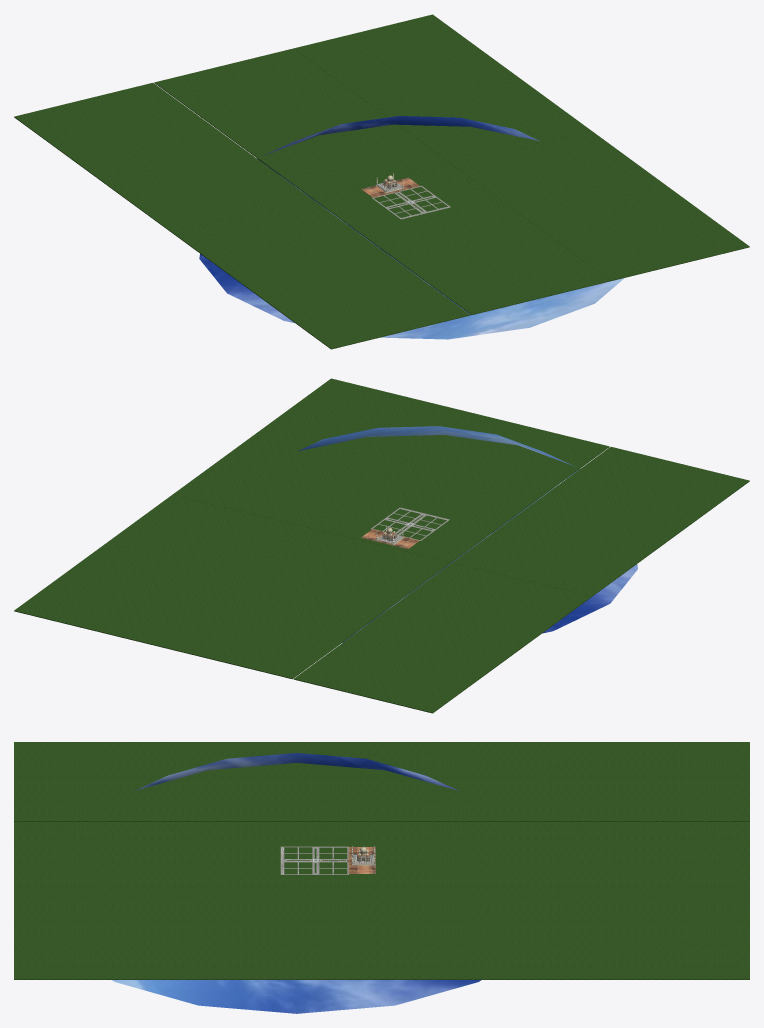
Rendered from taj_mahal.glb.
3 views of the same model, one above another, from view 1: azimuth 30°, elevation 25°; view 2: azimuth 150°, elevation 25°; view 3: azimuth 270°, elevation 25° (orthographic). The views are drawn at different scales.
Parts seen in each view (by area): view 1: floor02__grassonearth, floor02__sky, floor02__lawn, floor02__marbflooroutside; view 2: floor02__grassonearth, floor02__sky, floor02__lawn, floor02__marbflooroutside; view 3: floor02__grassonearth, floor02__sky, floor02__lawn, floor02__marbflooroutside.
Part boxes in pixels (x1,y1,x2,y2): floor02__grassonearth: (14, 14, 749, 349); floor02__sky: (199, 116, 624, 339); floor02__lawn: (374, 187, 447, 217); floor02__marbflooroutside: (372, 183, 450, 219); floor02__grassonearth: (14, 378, 749, 713); floor02__sky: (297, 426, 637, 642); floor02__lawn: (373, 509, 446, 539); floor02__marbflooroutside: (371, 507, 449, 543); floor02__grassonearth: (14, 742, 749, 979); floor02__sky: (112, 753, 481, 1013); floor02__lawn: (284, 847, 347, 874); floor02__marbflooroutside: (280, 846, 374, 874).
Bounding box in the file's own units: 6391 × 1342 × 8385.
Materials: 42 (42 with a texture image).
